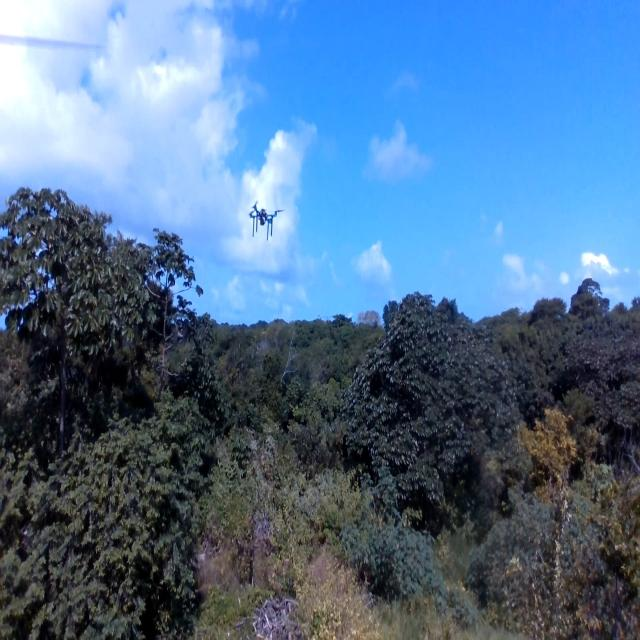-uav-: (245, 184, 285, 249)
